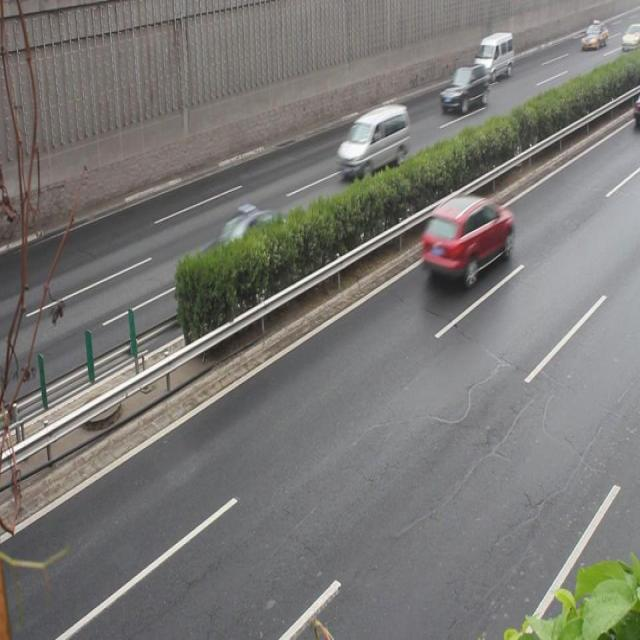car: (190, 210, 290, 297), (420, 198, 512, 280), (439, 66, 488, 112)
truck: (338, 105, 408, 177), (472, 32, 513, 78)
